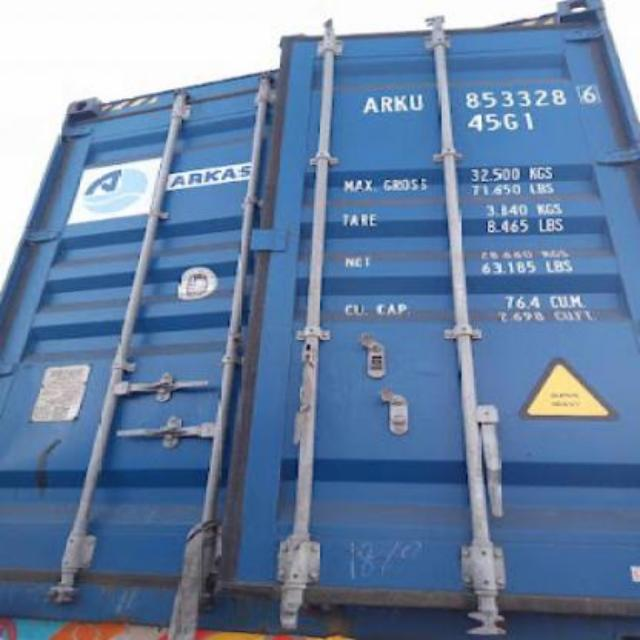2: (532, 88, 550, 109)
3: (498, 90, 516, 110), (516, 88, 532, 110)
5: (480, 90, 498, 108)
6: (582, 86, 594, 104)
8: (550, 88, 568, 108), (464, 92, 480, 110)
A: (362, 95, 378, 115)
K: (392, 94, 410, 114)
R: (378, 94, 392, 114)
U: (411, 91, 424, 112)
